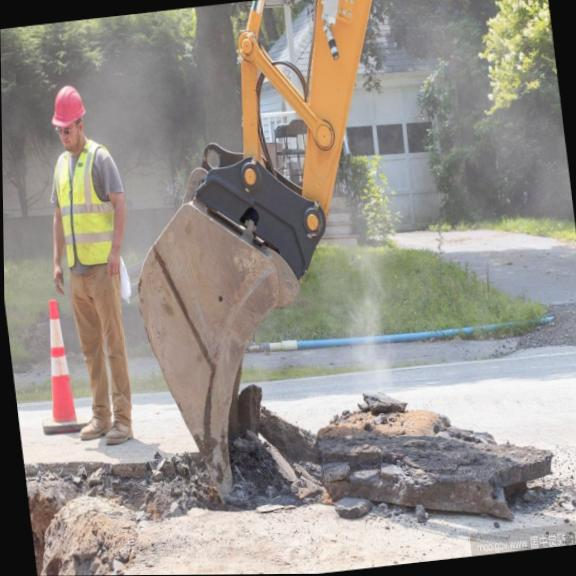safety_vest: (46, 143, 117, 269)
